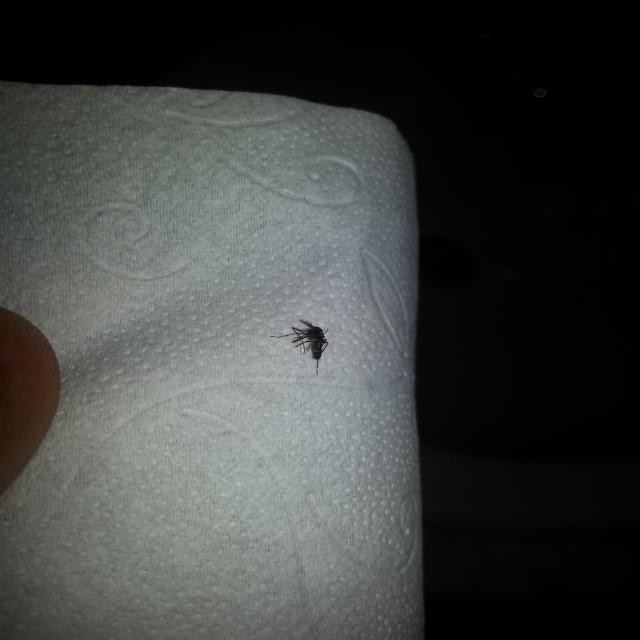albopictus: (264, 314, 342, 378)
